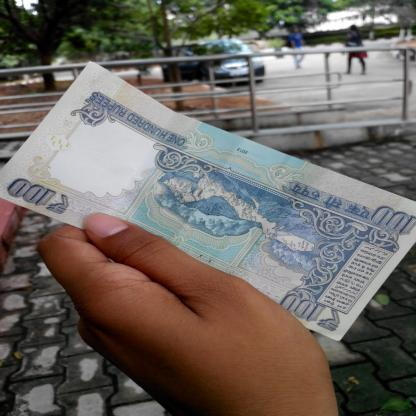Old100Back: (0, 59, 416, 342)
